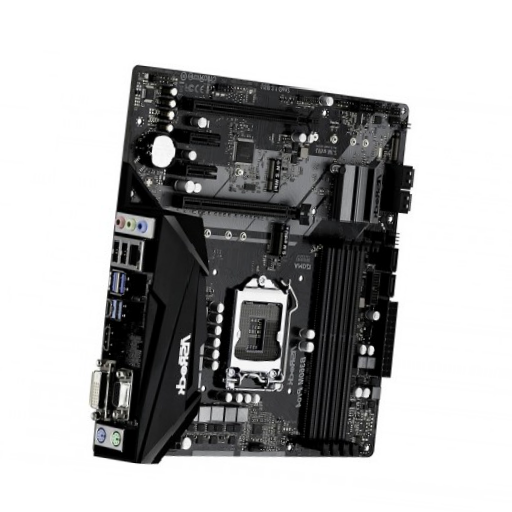CPU: (221, 275, 291, 392)
GPU: (180, 95, 326, 127), (177, 191, 312, 224)
MOTHERBOARD: (91, 66, 412, 464)
RAM: (289, 237, 363, 454)
SSD: (268, 222, 290, 254), (265, 158, 283, 193)
